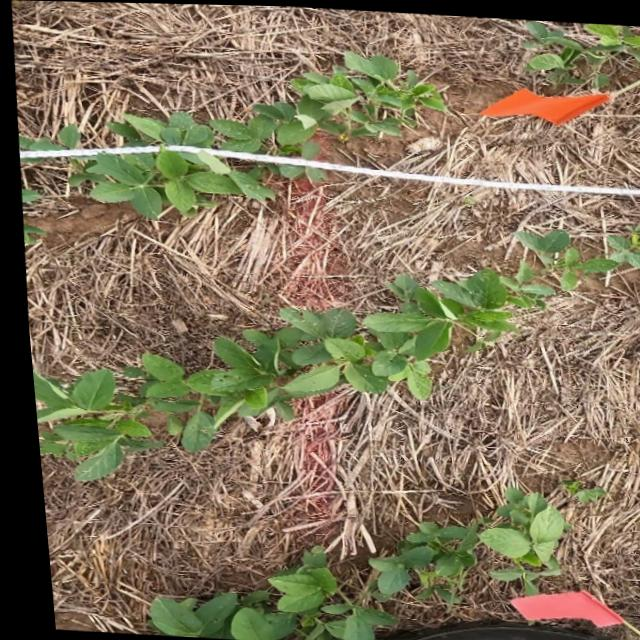soy_plant: (26, 222, 640, 479), (67, 49, 444, 216), (353, 485, 557, 599), (138, 545, 381, 640), (527, 19, 640, 83), (16, 124, 76, 150), (553, 477, 594, 497)
